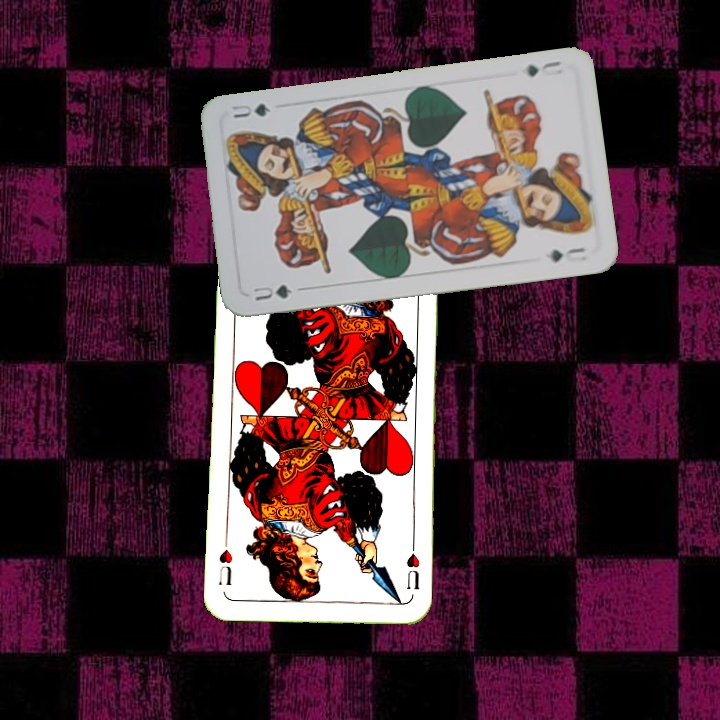GU: (247, 280, 295, 304), (522, 57, 567, 79)
HU: (402, 550, 422, 593)
